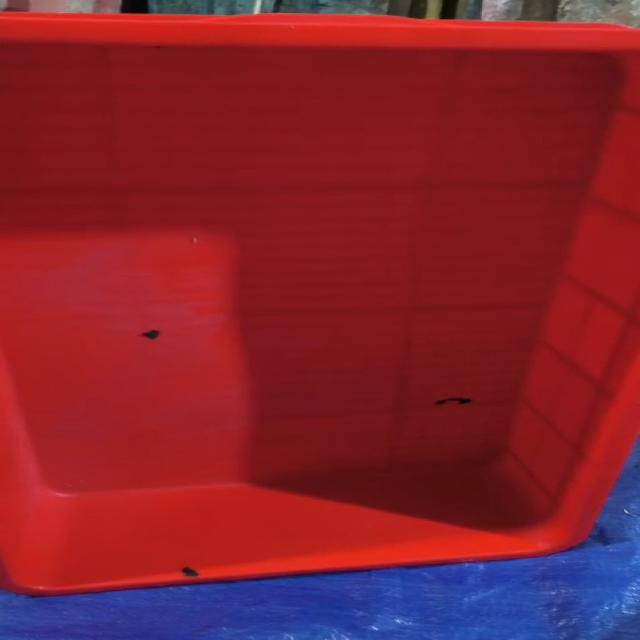red plastic box: (0, 13, 639, 596)
